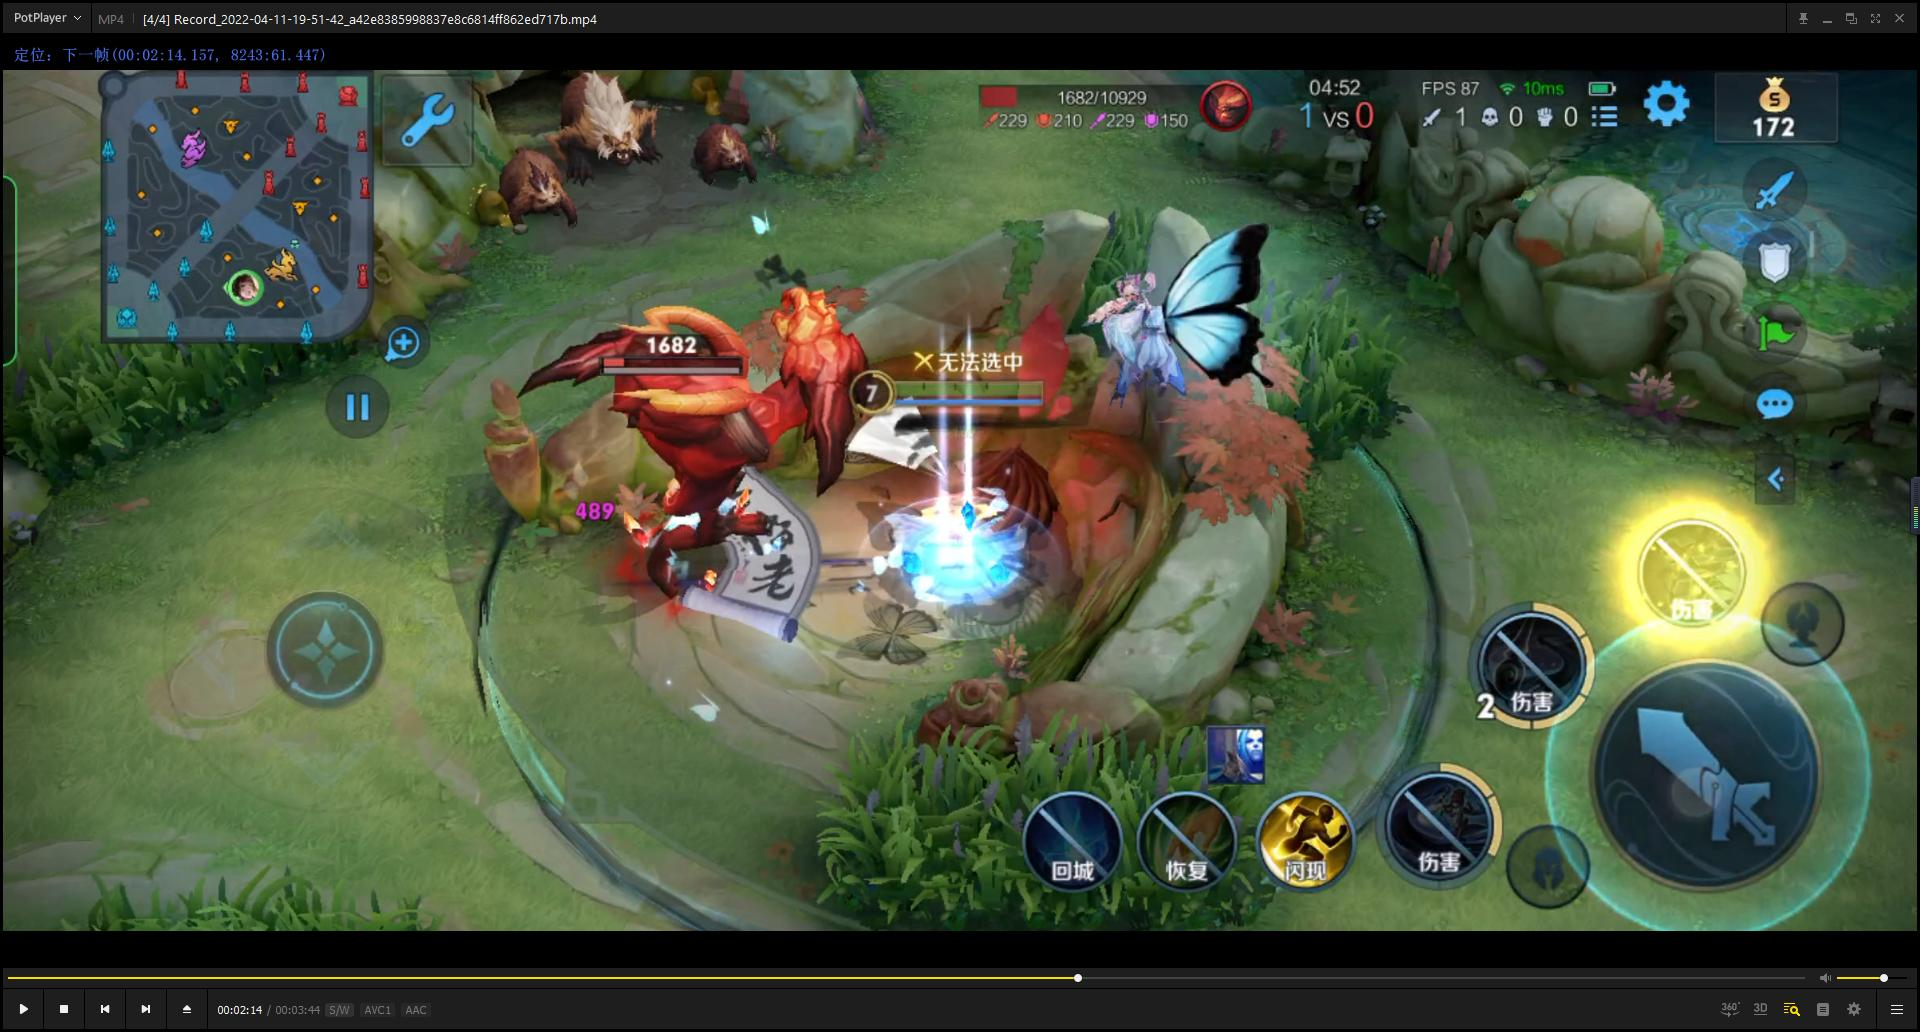Buff: (537, 278, 873, 646)
Hero: (820, 236, 1268, 690)
Pig: (464, 135, 598, 263), (536, 66, 668, 187), (670, 107, 773, 189)
